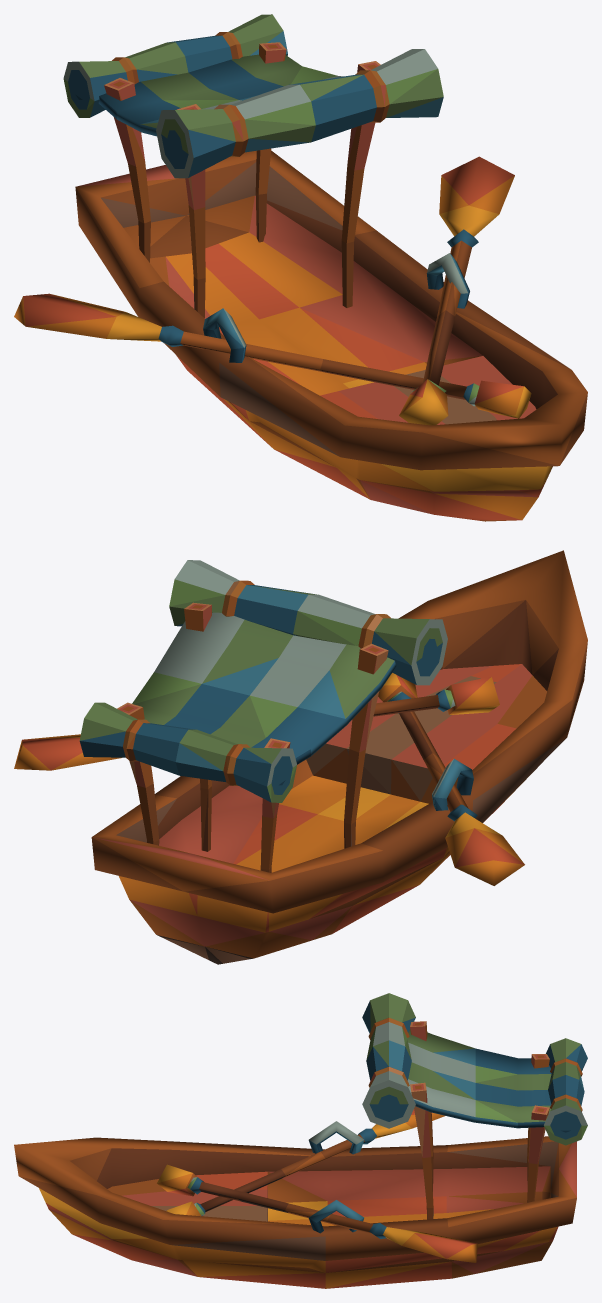
Rendered from itch_fishing_village_boat2.glb.
The picture shows the model from 3 angles, top to bottom: view 1: azimuth 30°, elevation 25°; view 2: azimuth 150°, elevation 25°; view 3: azimuth 270°, elevation 25°; orthographic projection. The views are drawn at different scales.
Parts seen in each view (by area): view 1: boat2.001; view 2: boat2.001; view 3: boat2.001.
Boxes of the visible parts, left/top/right/bottom form: boat2.001: left=14, top=14, right=587, bottom=521; boat2.001: left=14, top=550, right=587, bottom=964; boat2.001: left=14, top=993, right=587, bottom=1288.
Size of the model in its own units: 0.6941 by 0.4463 by 0.96.
